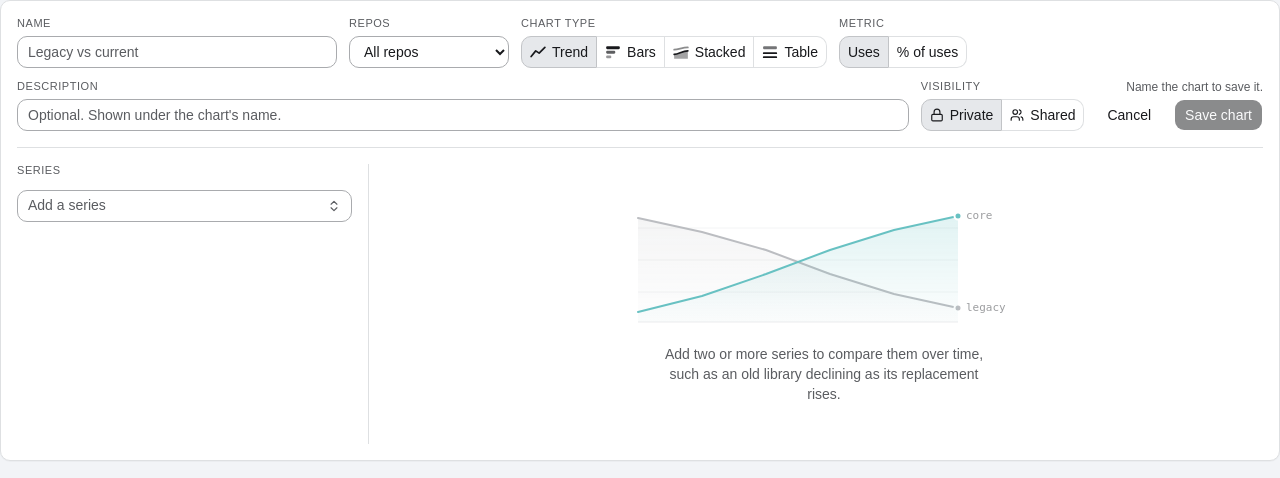
chart details and saving › keeps Metric on % of uses with Count unavailable while Stacked is chosen
Check: the text "Share of these series" is not shown
What coordinates should you click on to do the following:
click the button "Stacked"
I would click on:
 (710, 52)
Its box is [665, 36, 754, 68].
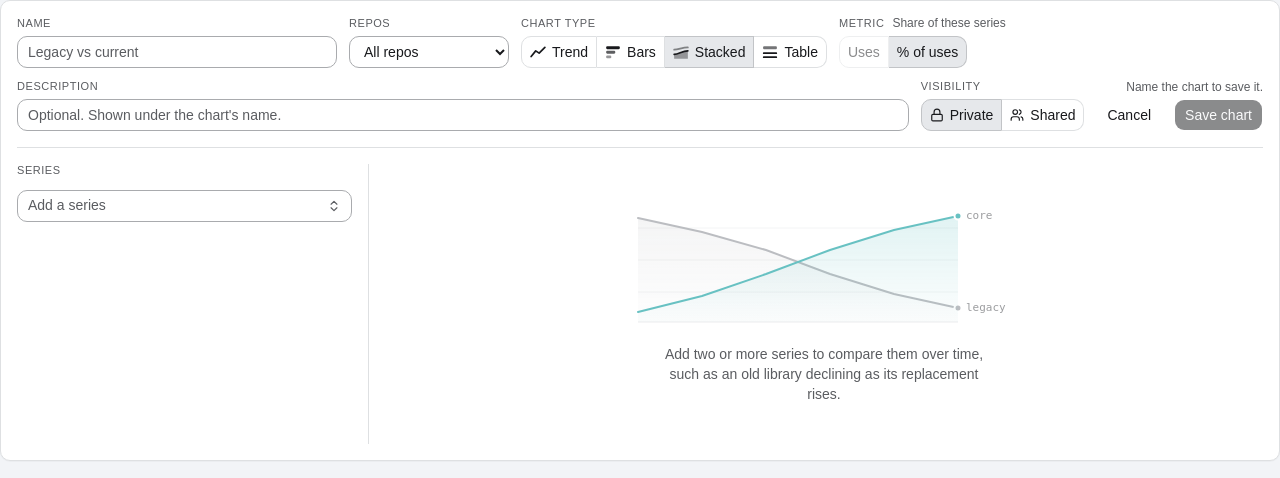
Check: the button "Uses" is disabled, box [839, 36, 889, 68]
Check: the text "Share of these series" is shown, box [892, 17, 1006, 29]
What coordinates should you click on to do the following:
click the button "Trend"
I would click on:
 (559, 52)
Its box is [521, 36, 597, 68].
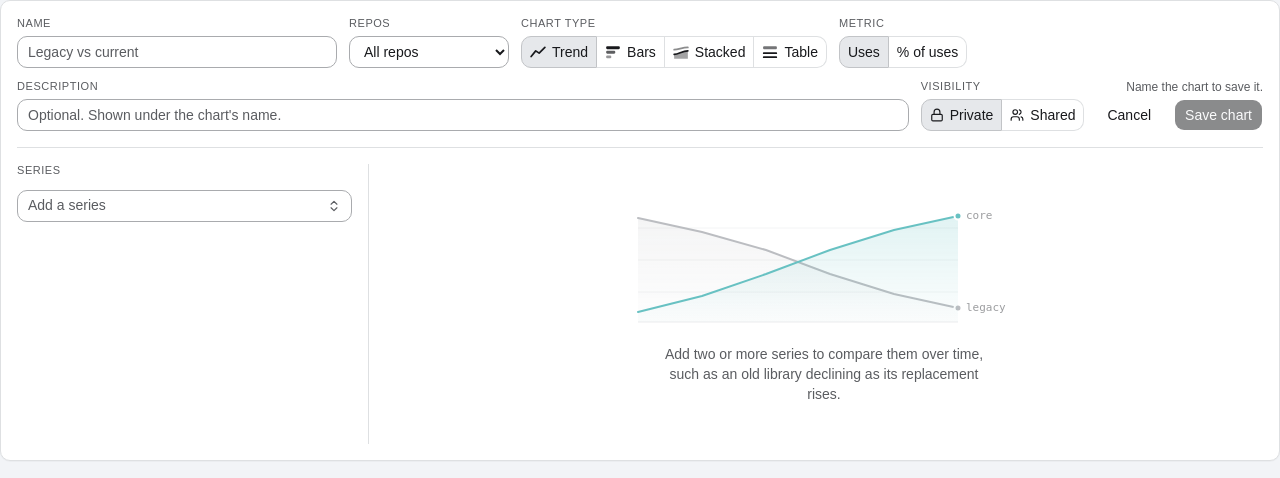
Check: the text "Share of these series" is gone
